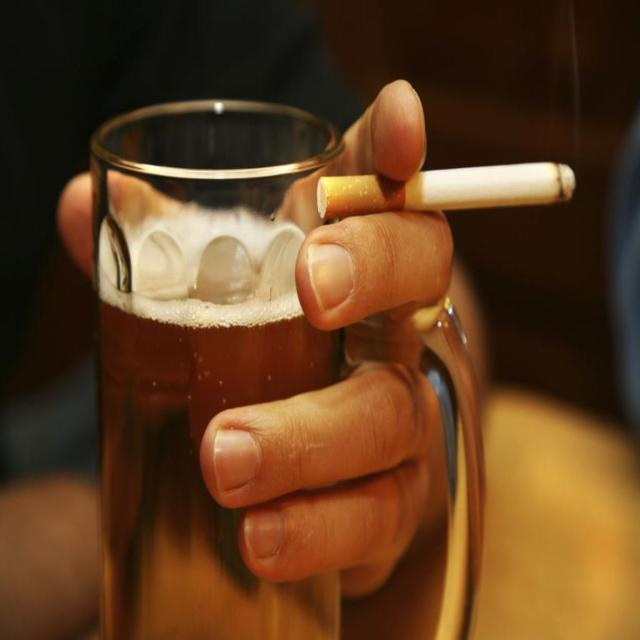smoking: (292, 89, 608, 291)
